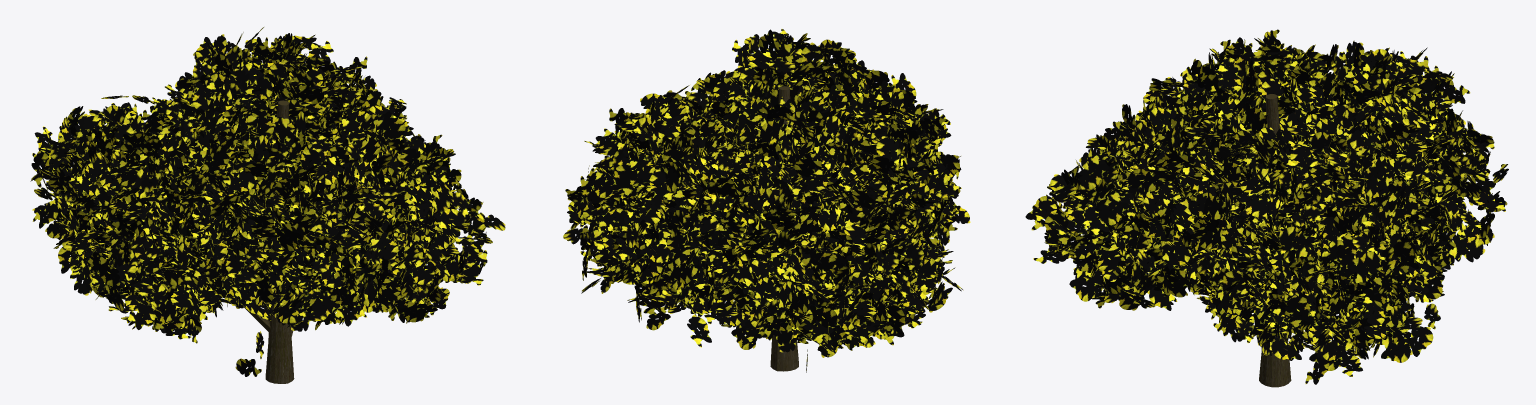
File: understory_laurel_v03.fbx
3 renders of one model, left to right at view 1: azimuth 30°, elevation 25°; view 2: azimuth 150°, elevation 25°; view 3: azimuth 270°, elevation 25°, orthographic. The views are drawn at different scales.
Visible parts, largest first — view 1: understory_laurel_v03; view 2: understory_laurel_v03; view 3: understory_laurel_v03.
Part boxes in pixels (x1,y1,x2,y2): understory_laurel_v03: (30,27,505,383); understory_laurel_v03: (563,29,970,372); understory_laurel_v03: (1025,29,1508,387).
Size of the model in its own units: 886 by 969 by 689.
2 materials, 2 textured.
